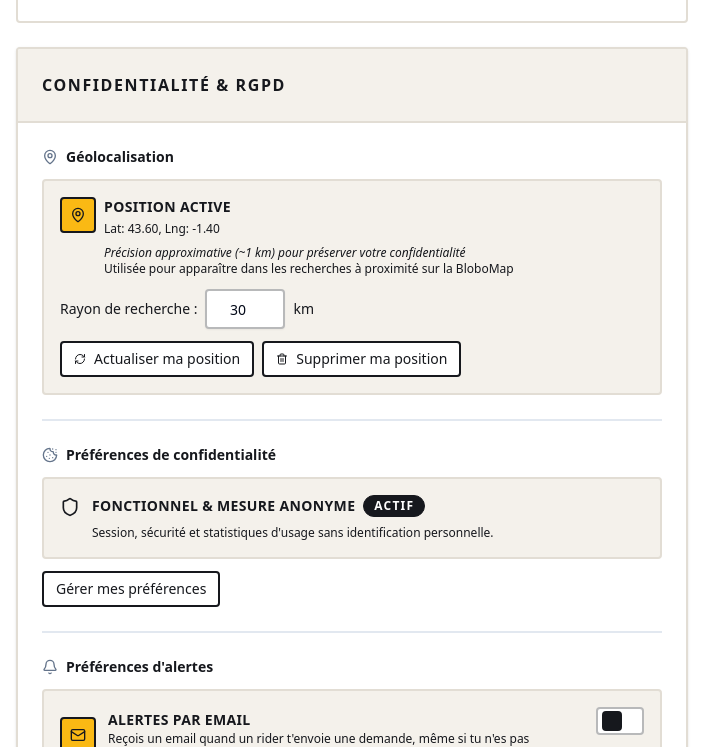
Géolocalisation — position déjà enregistrée › Supprimer → appelle PUT /pro/me sans lat/lng, masque la position
(page scrolled)
Step 1. Click the button "Supprimer ma position" → click(362, 359), box [262, 341, 461, 377]
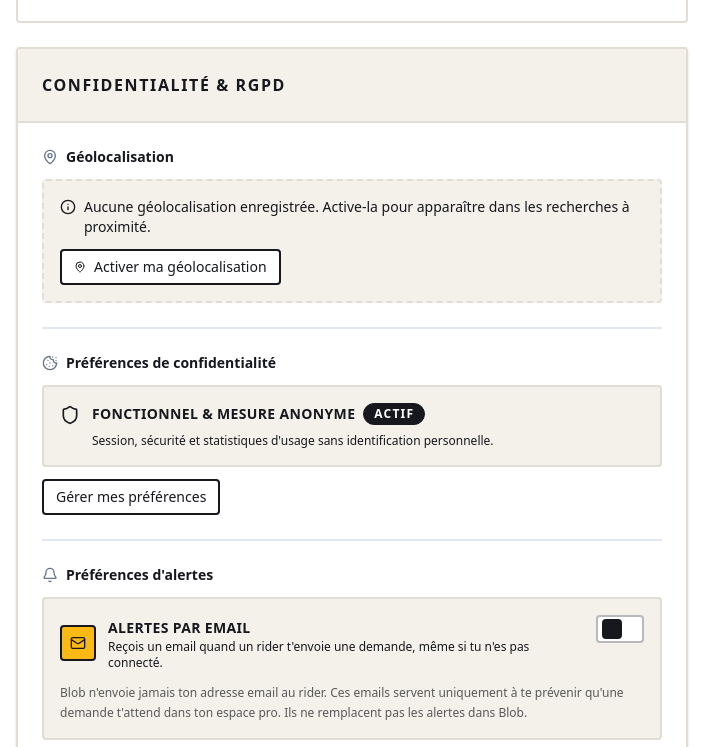
Expected: the text "Position active" is gone
